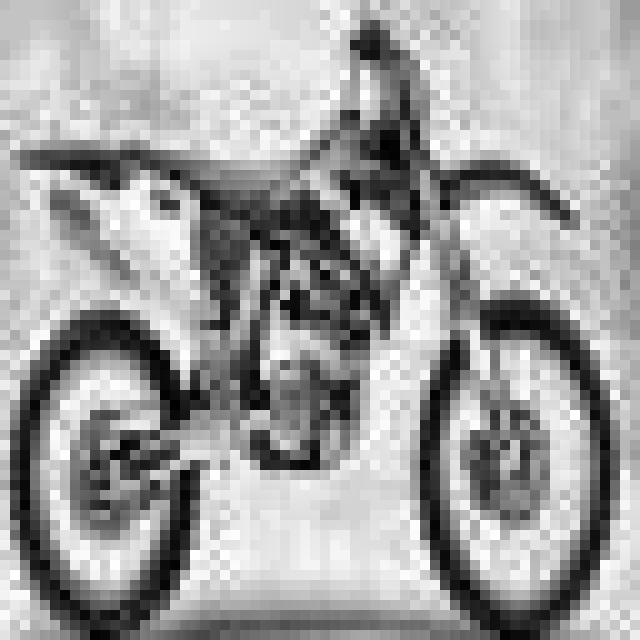mopeds: (6, 59, 622, 639)
